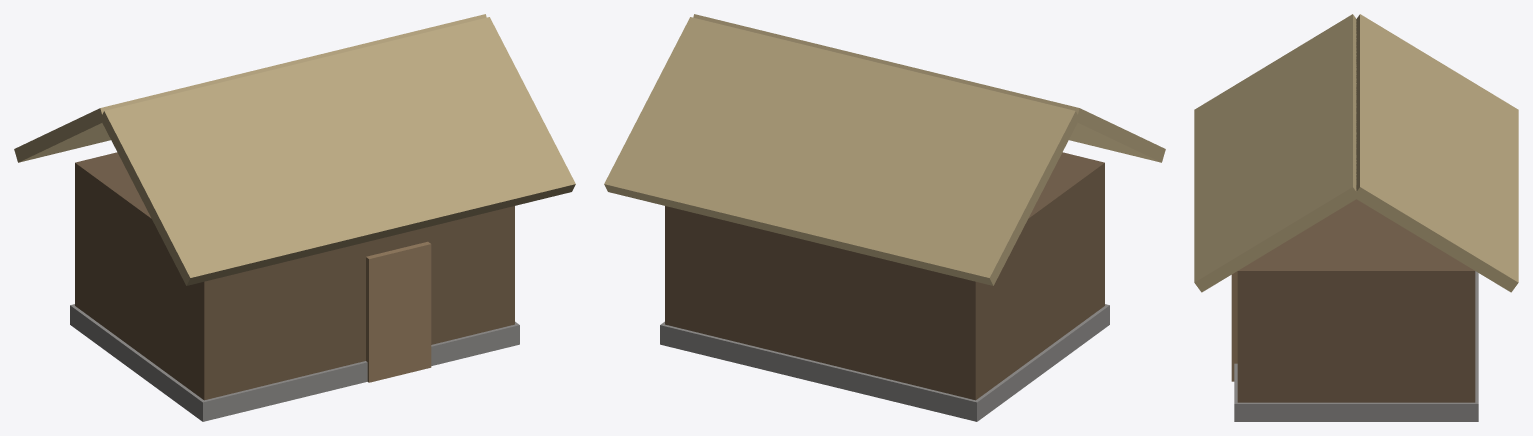
Rendered from house_b.glb.
3 views of the same model, side by side, from view 1: azimuth 30°, elevation 25°; view 2: azimuth 150°, elevation 25°; view 3: azimuth 270°, elevation 25° (orthographic). The views are drawn at different scales.
Parts seen in each view (by area): view 1: house_b; view 2: house_b; view 3: house_b.
Part boxes in pixels (x1,y1,x2,y2): house_b: (14, 14, 575, 421); house_b: (604, 14, 1165, 421); house_b: (1194, 14, 1518, 421).
Size of the model in its own units: 6.2 by 4.18 by 4.91.
